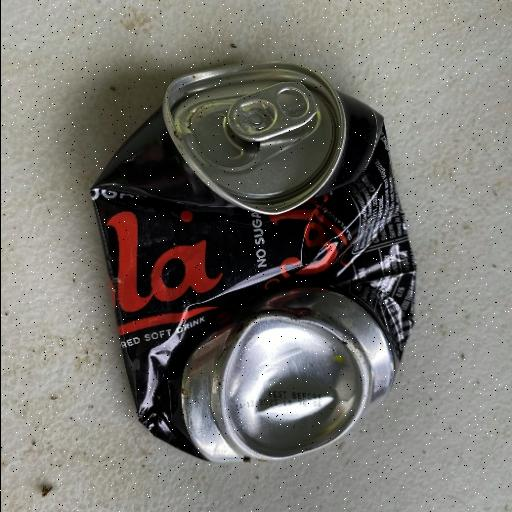Metal: (87, 59, 418, 465)
